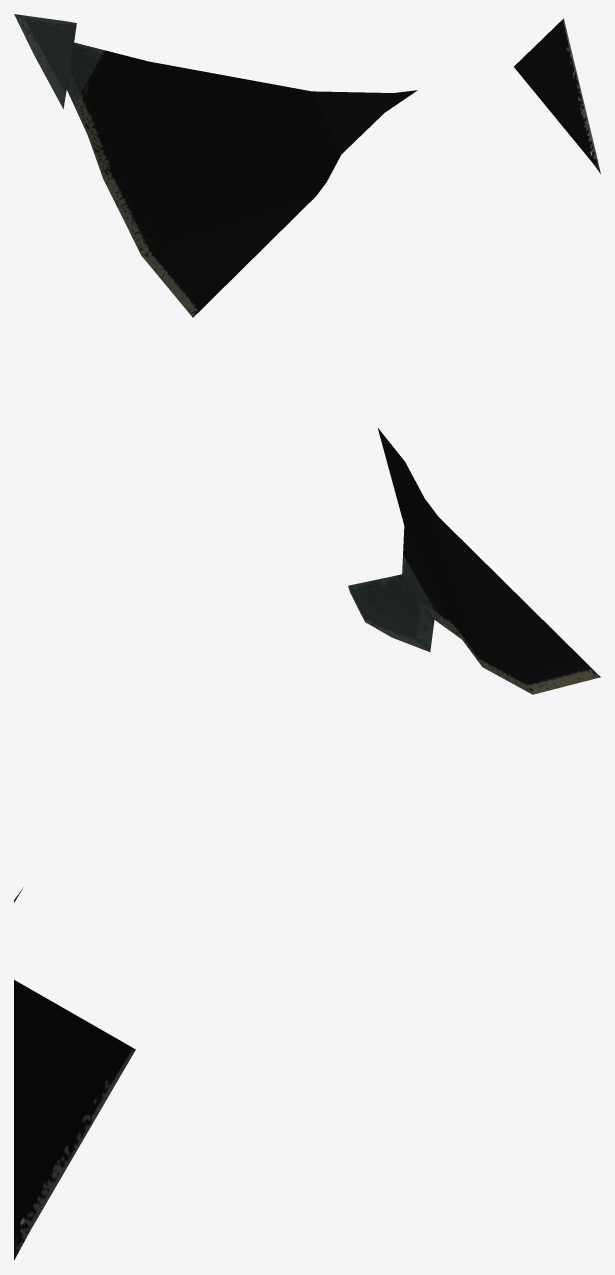
3 renders of one model, top to bottom at view 1: azimuth 30°, elevation 25°; view 2: azimuth 150°, elevation 25°; view 3: azimuth 270°, elevation 25°, orthographic. The views are drawn at different scales.
Size of the model in its own units: 1.67 by 0.6781 by 1.27.
Materials: 1 (1 with a texture image).
